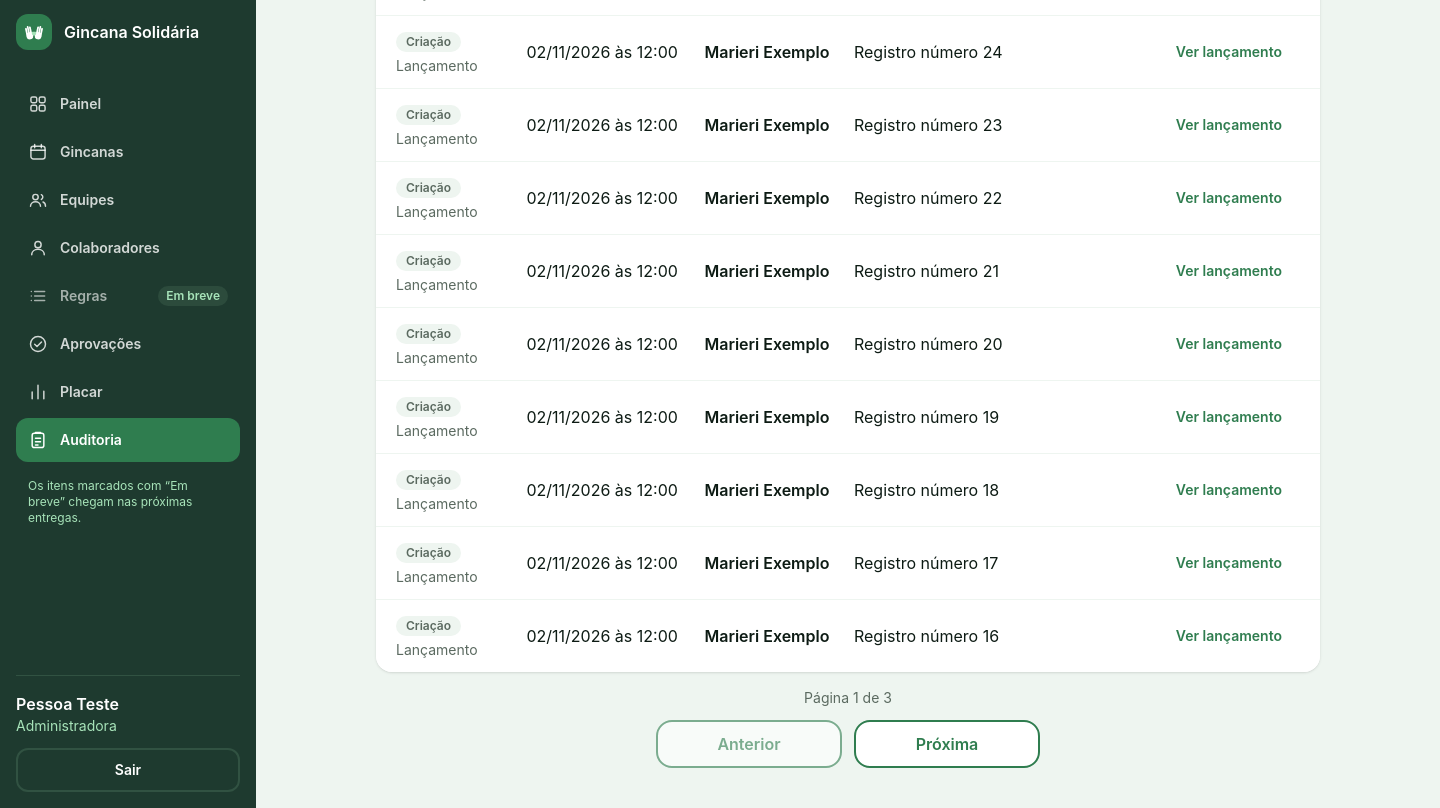
Painel de auditoria da administradora (US09) › paginação › mostra dez por vez, diz em que página está e avança e volta
This screenshot has width=1440, height=808.
(page scrolled)
Expected: the text "Página 1 de 3" is shown, [804, 688, 892, 706]
Expected: the button "Anterior" is disabled, [656, 720, 842, 768]
Click the button "Próxima" at x=947, y=744, box [854, 720, 1040, 768]
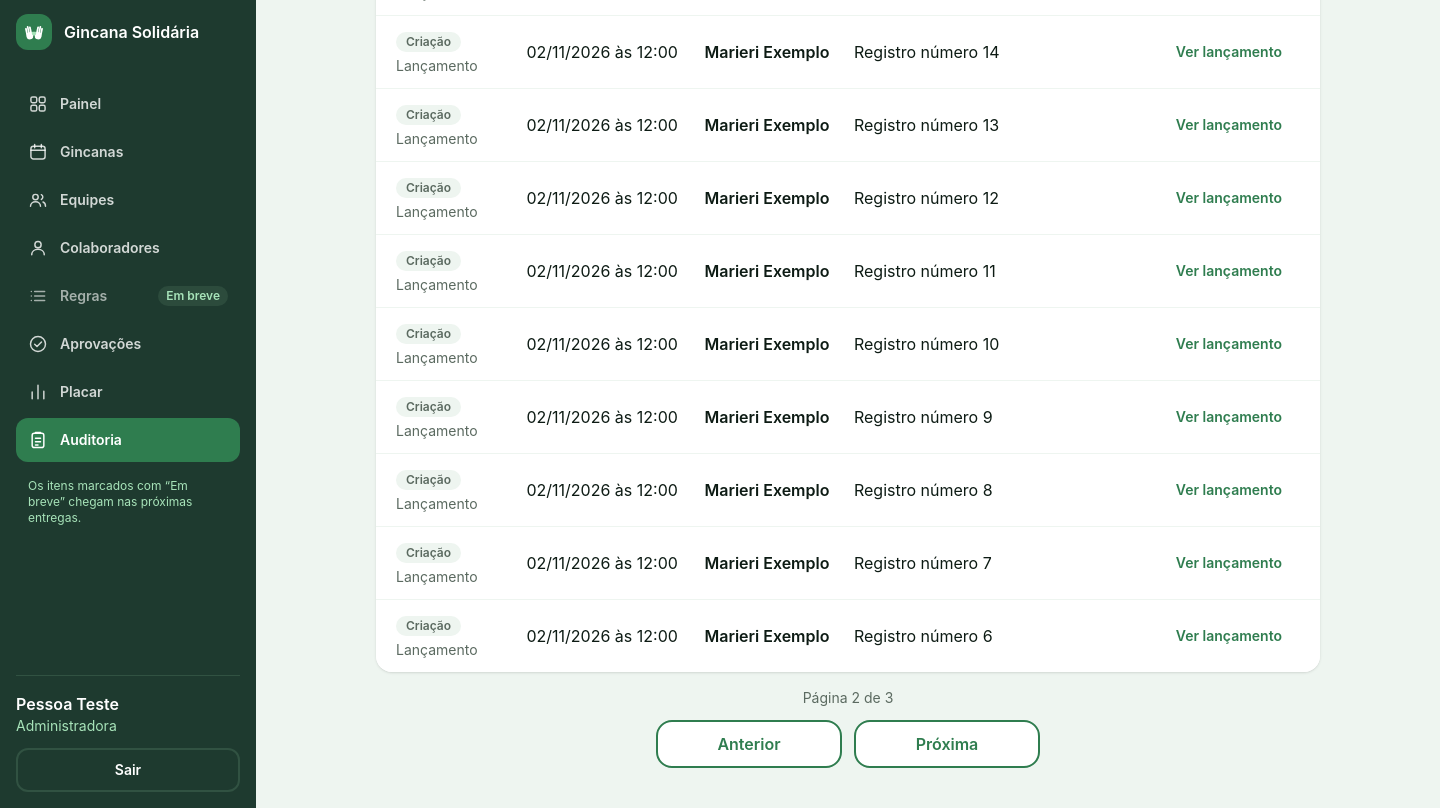
Expected: the text "Página 2 de 3" is shown, [803, 688, 893, 706]
Click the button "Próxima" at x=947, y=744, box [854, 720, 1040, 768]
(page scrolled)
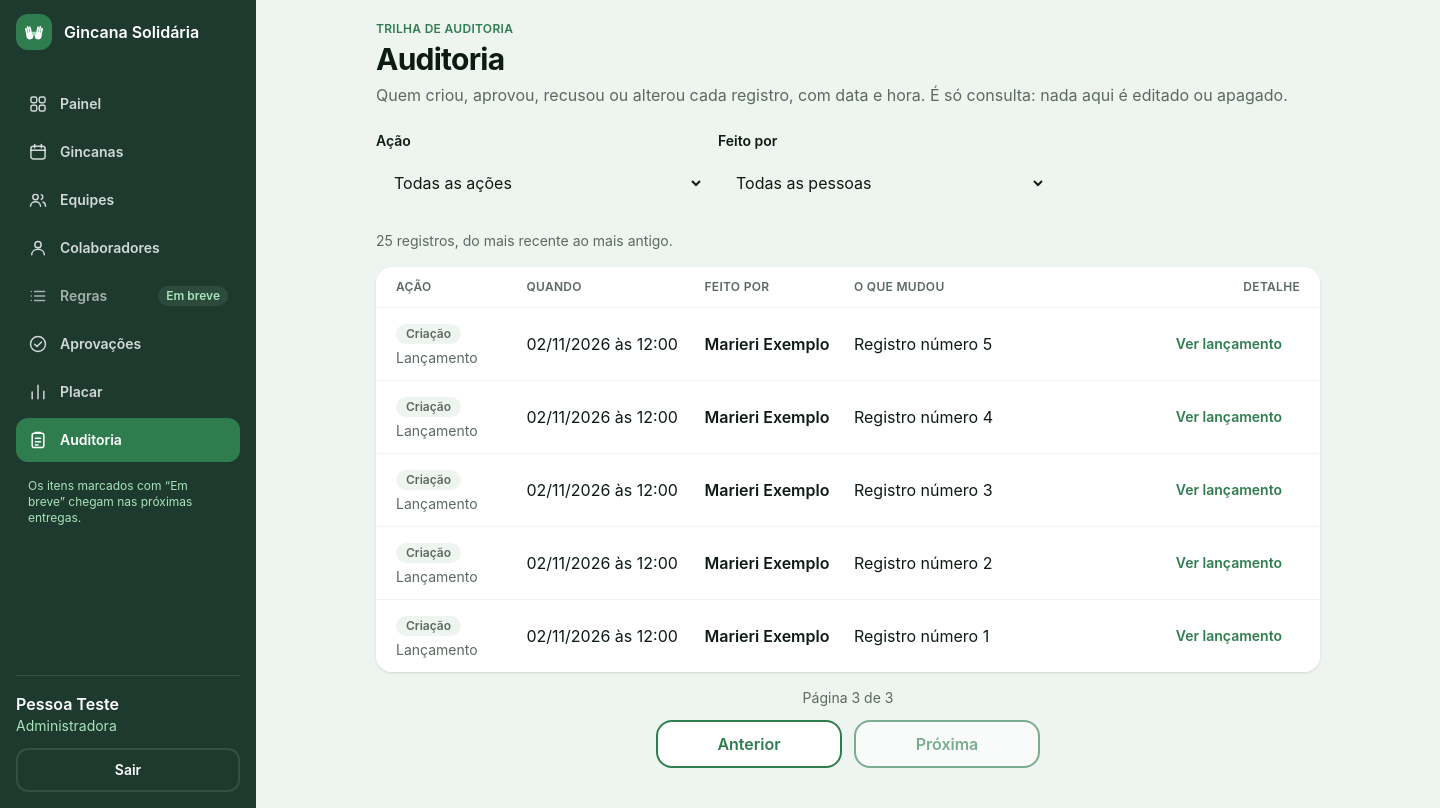
Expected: the text "Página 3 de 3" is shown, [803, 688, 893, 706]
Expected: the button "Próxima" is disabled, [854, 720, 1040, 768]
Click the button "Anterior" at x=749, y=744, box [656, 720, 842, 768]
(page scrolled)
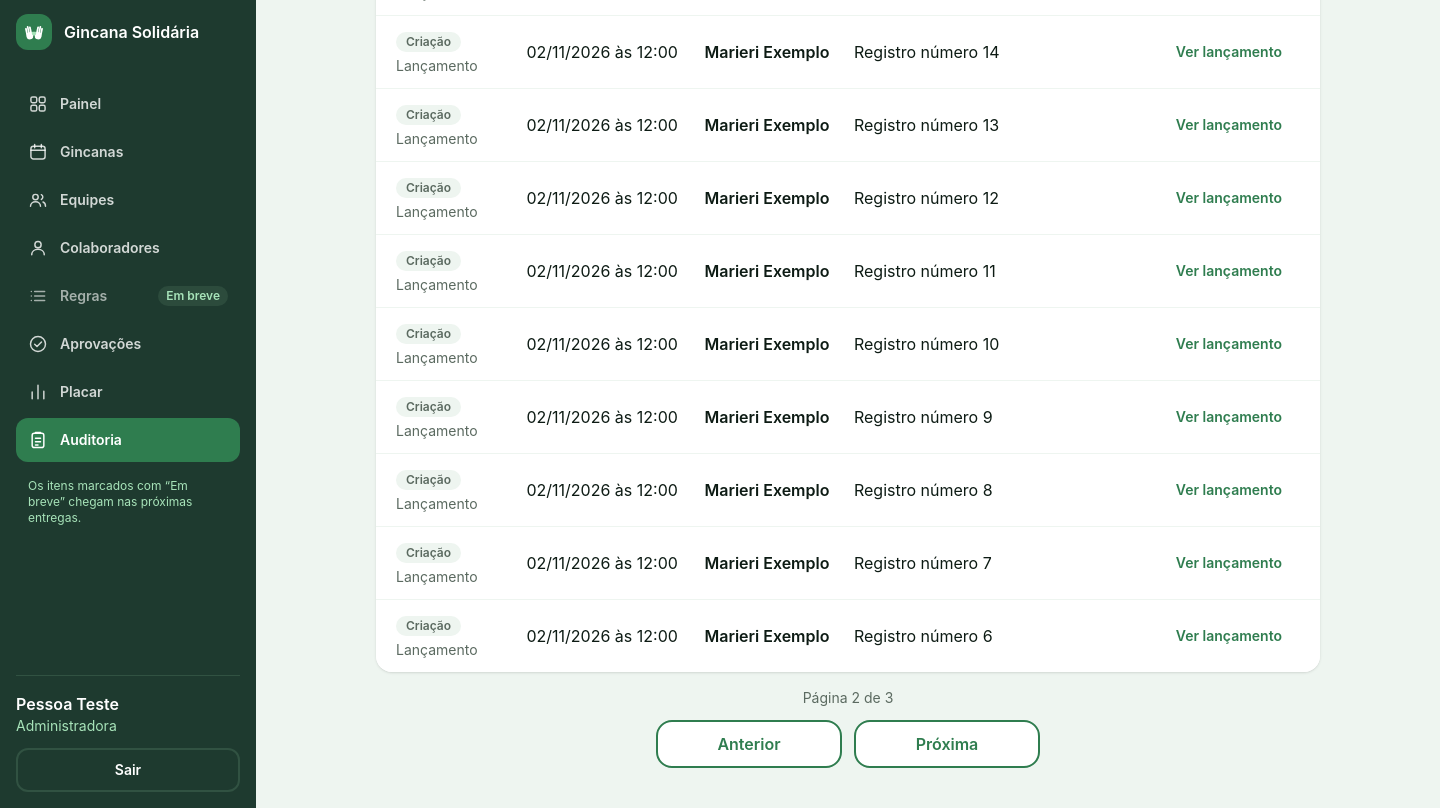
Expected: the text "Página 2 de 3" is shown, [803, 688, 893, 706]
